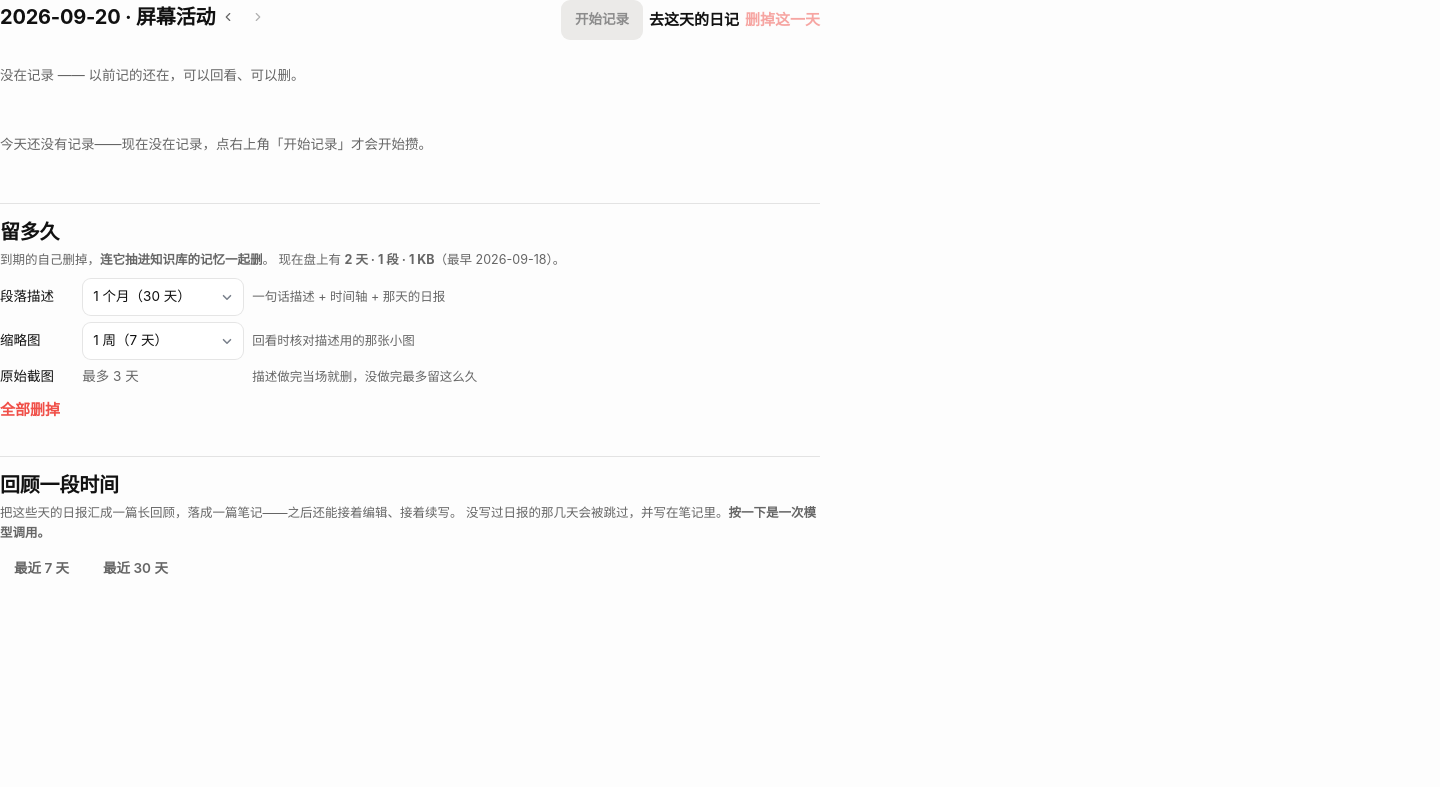
Test: P52 · 段删光了只剩日报的那一天 › 确认框里不写「0 段」这种废话，只写真会被删掉的那几样
Click the button named "上一条记录" at (233, 17), box [221,5,245,29]
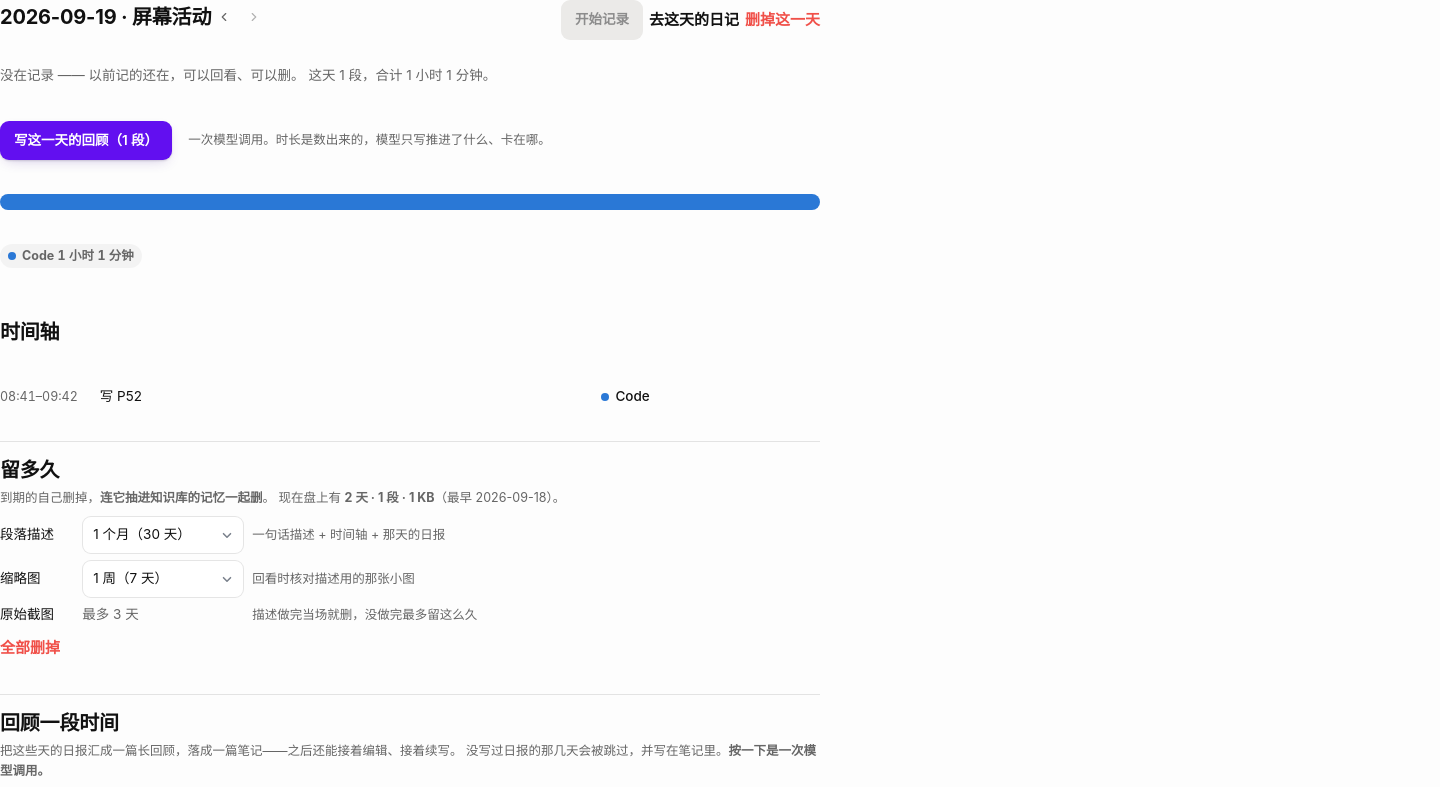
Click the button named "上一条记录" at (229, 17), box [217,5,241,29]
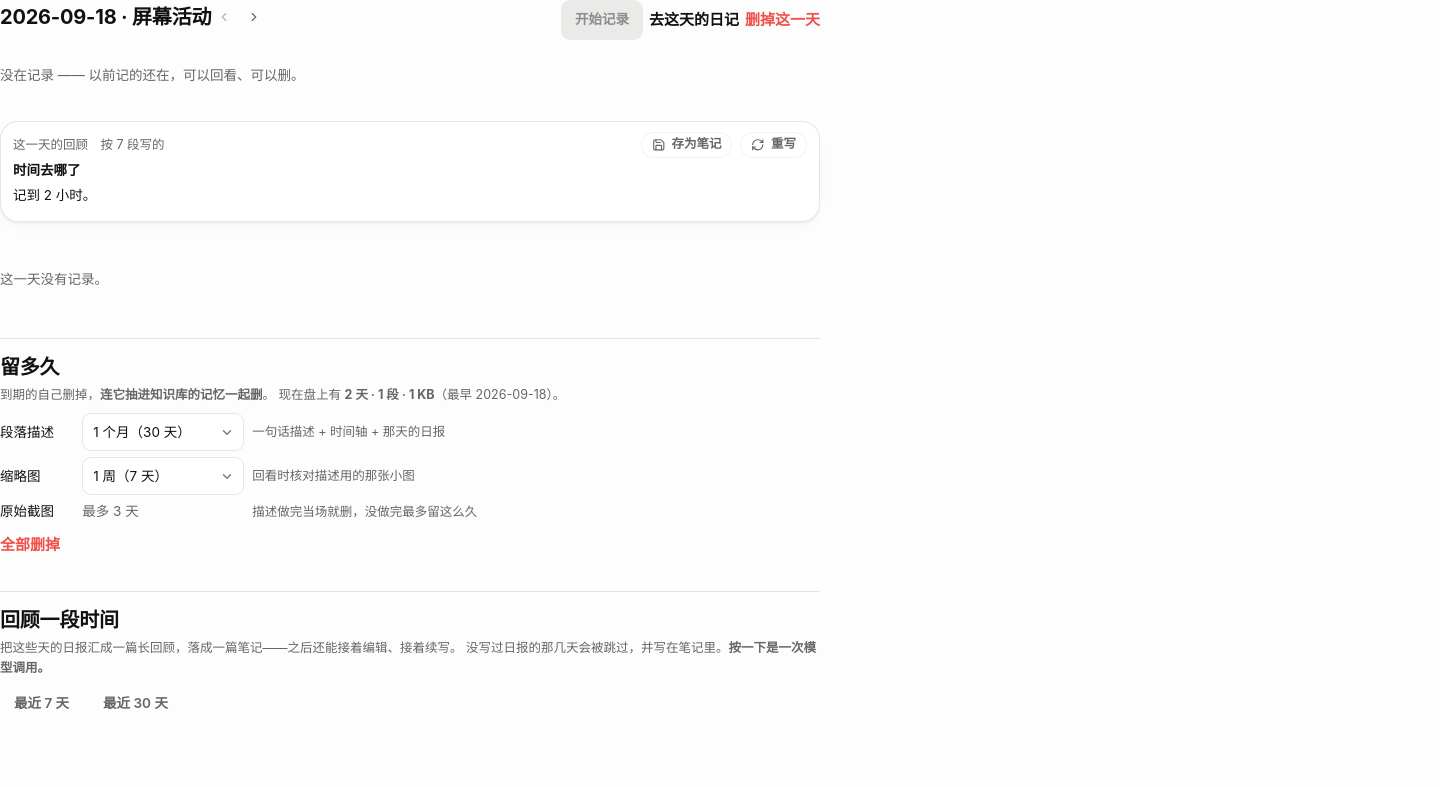
Click the button "删掉这一天" at (782, 20), box [745,8,820,32]
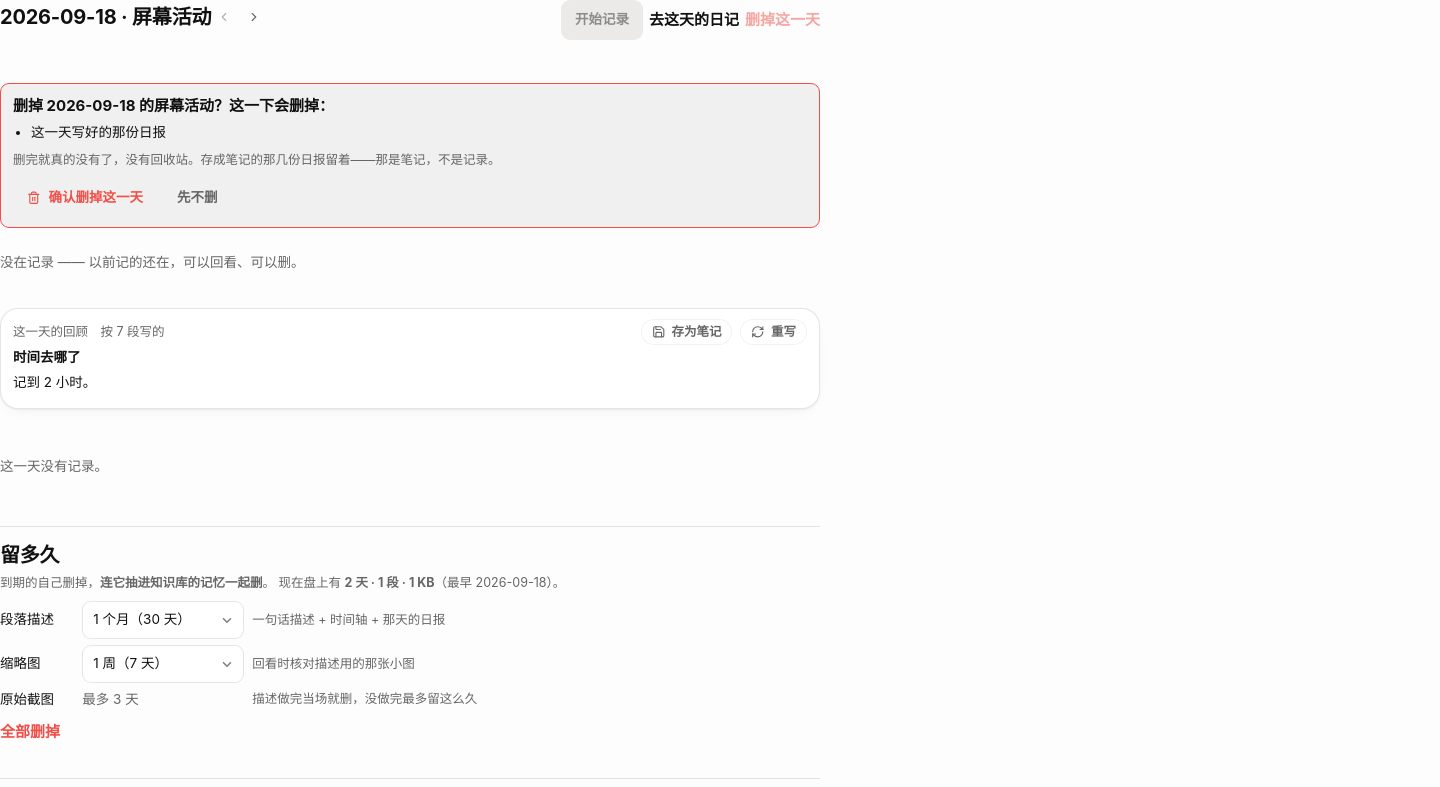
Expected: the dialog with class "journey-keep-confirm" shows "删完就真的没有了，没有回收站", [13,152,500,167]
